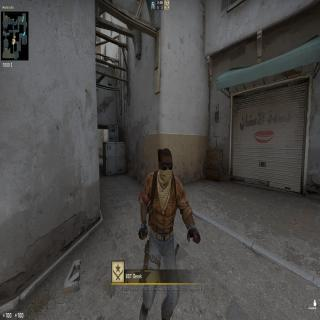T-Head: (156, 146, 176, 185)
